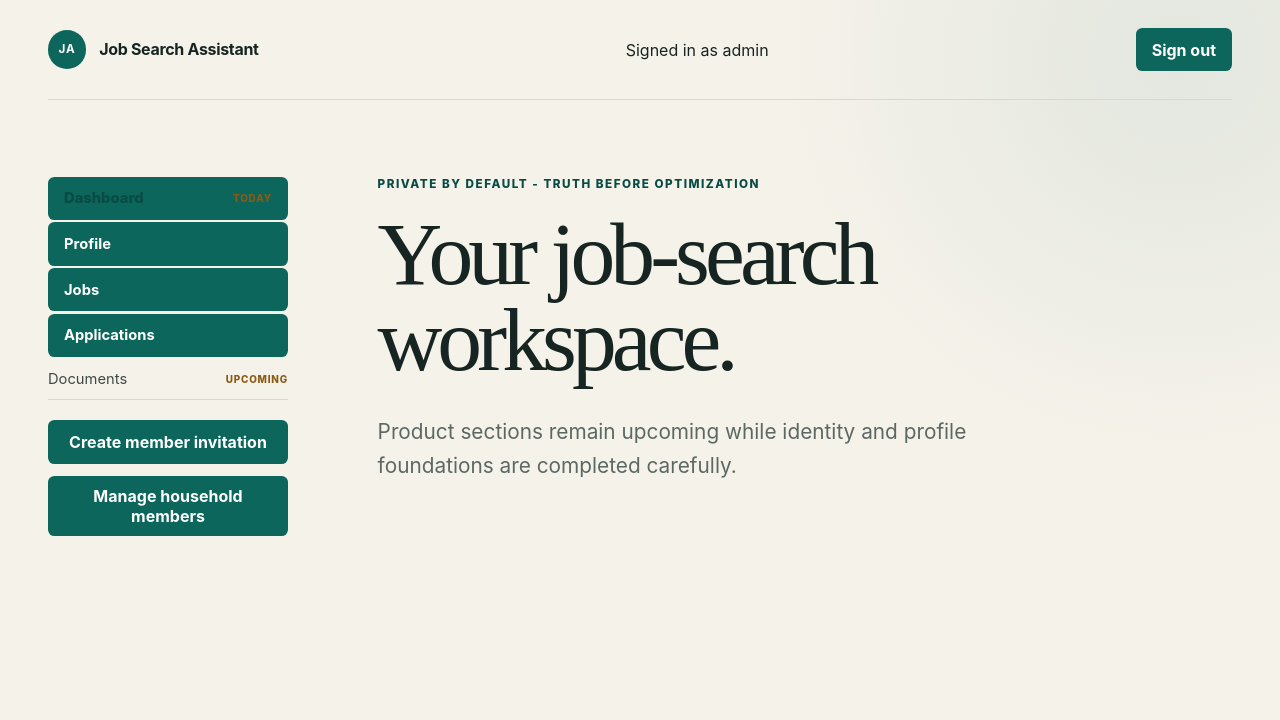
authentication experience › returns to login when the account-management session expires
The image size is (1280, 720).
Click the button "Manage household members": {"x": 168, "y": 506} [48,476,288,536]
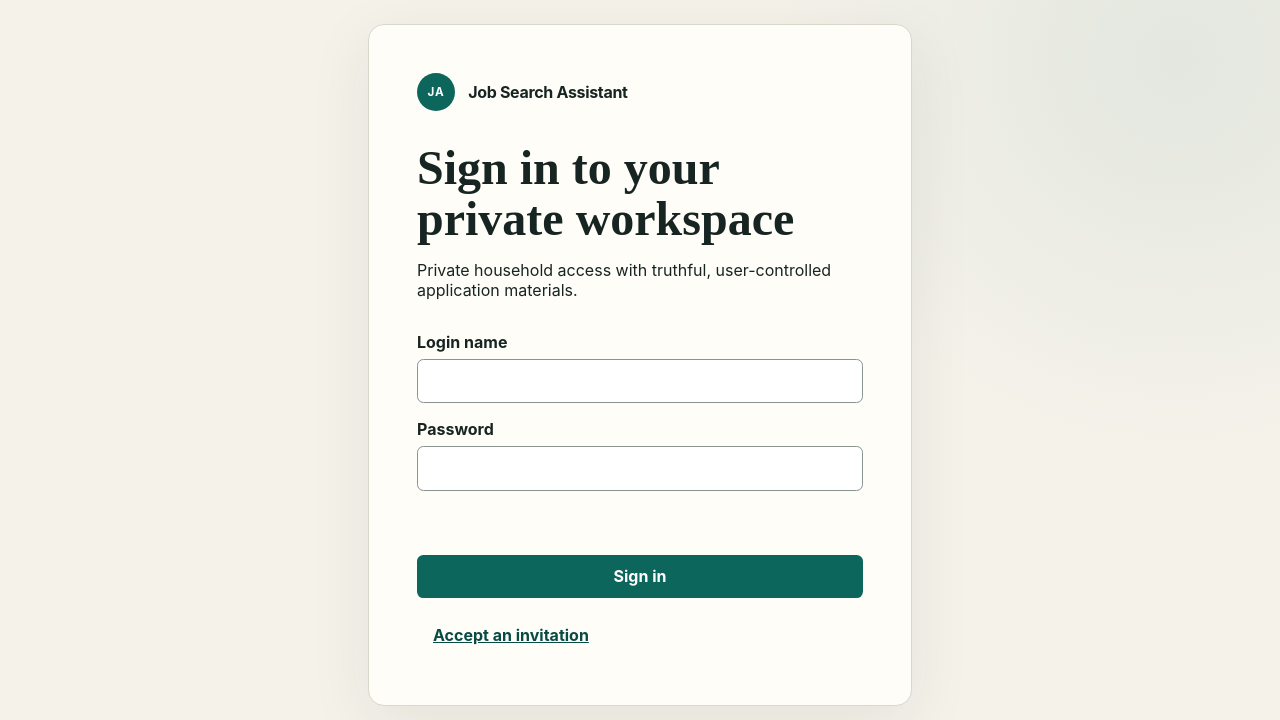
Expected: the heading "Sign in to your private workspace" is shown, [417,141,794,245]
